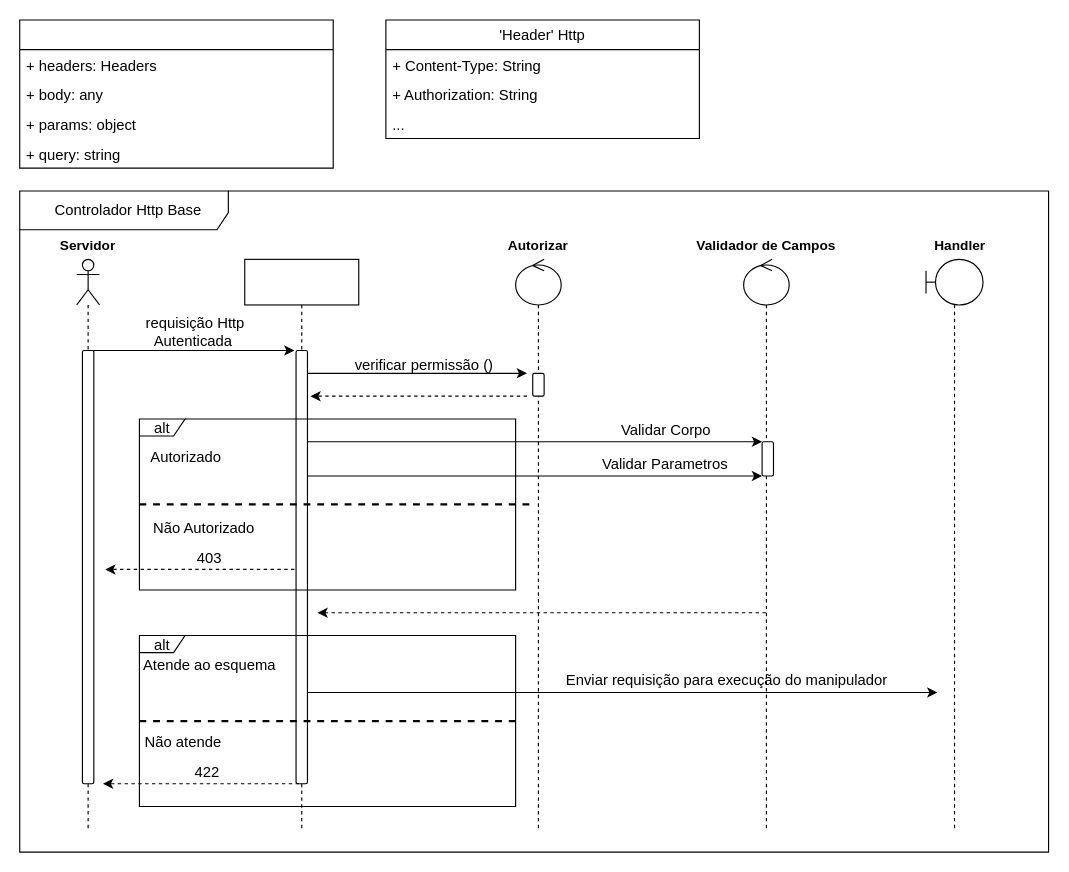
Some shapes in this 1069 by 872 pixel diagram are drawn without their labels. Here are the shapes that lost their labels. From the top down, the box of each, then its label:
(19, 19, 333, 168): Requisicao Http
(244, 258, 359, 829): Controlador Base
